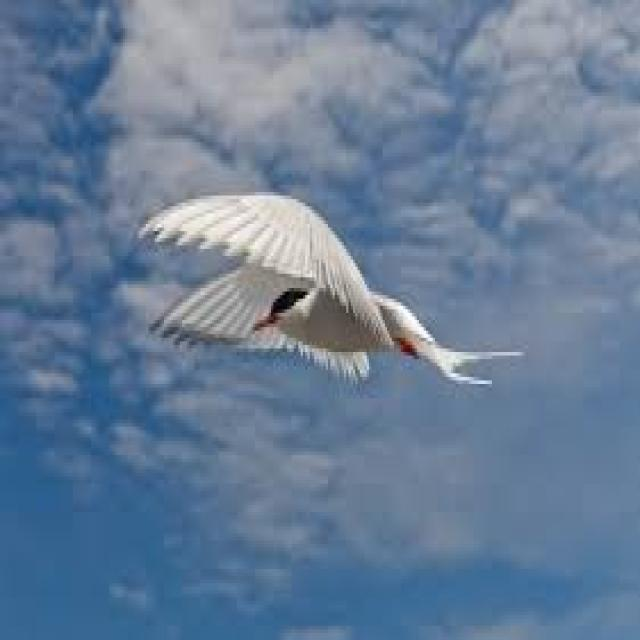bird: (113, 194, 534, 410)
